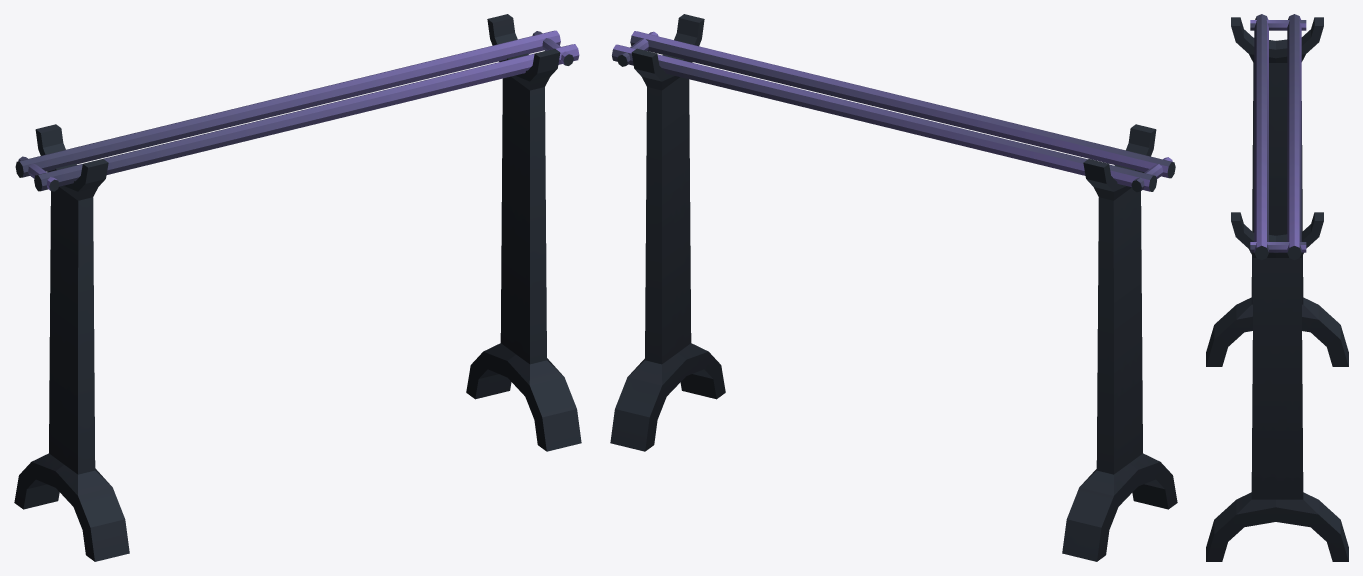
File: sis_lv2.fbx
The picture shows the model from 3 angles, left to right: view 1: azimuth 30°, elevation 25°; view 2: azimuth 150°, elevation 25°; view 3: azimuth 270°, elevation 25°; orthographic projection. The views are drawn at different scales.
Parts seen in each view (by area): view 1: Cube.001, Cube.002, Cube.003, Cube; view 2: Cube.001, Cube.002, Cube, Cube.003; view 3: Cube.001, Cube.002, Cube, Cube.003, Cube.004, Cube.005.
Part boxes in pixels (bbox=[...]): Cube.001: bbox=[466, 14, 581, 451]; Cube.002: bbox=[14, 124, 129, 561]; Cube.003: bbox=[15, 30, 560, 177]; Cube: bbox=[34, 44, 579, 191]; Cube.001: bbox=[610, 14, 725, 451]; Cube.002: bbox=[1062, 124, 1177, 561]; Cube: bbox=[630, 31, 1175, 178]; Cube.003: bbox=[612, 44, 1156, 191]; Cube.001: bbox=[1206, 212, 1348, 561]; Cube.002: bbox=[1206, 17, 1348, 366]; Cube: bbox=[1254, 14, 1268, 259]; Cube.003: bbox=[1287, 14, 1301, 259]; Cube.004: bbox=[1250, 20, 1306, 30]; Cube.005: bbox=[1250, 242, 1306, 252].
Size of the model in its own units: 309 by 80.39 by 210.
